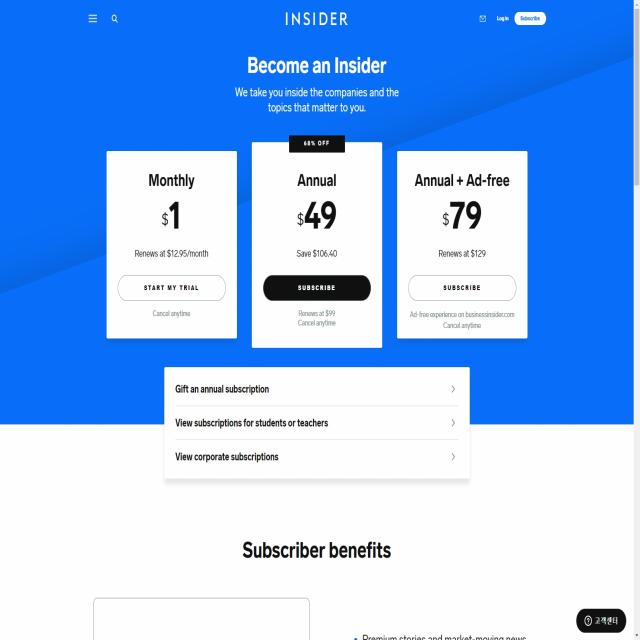menu-bar: (81, 1, 126, 36)
